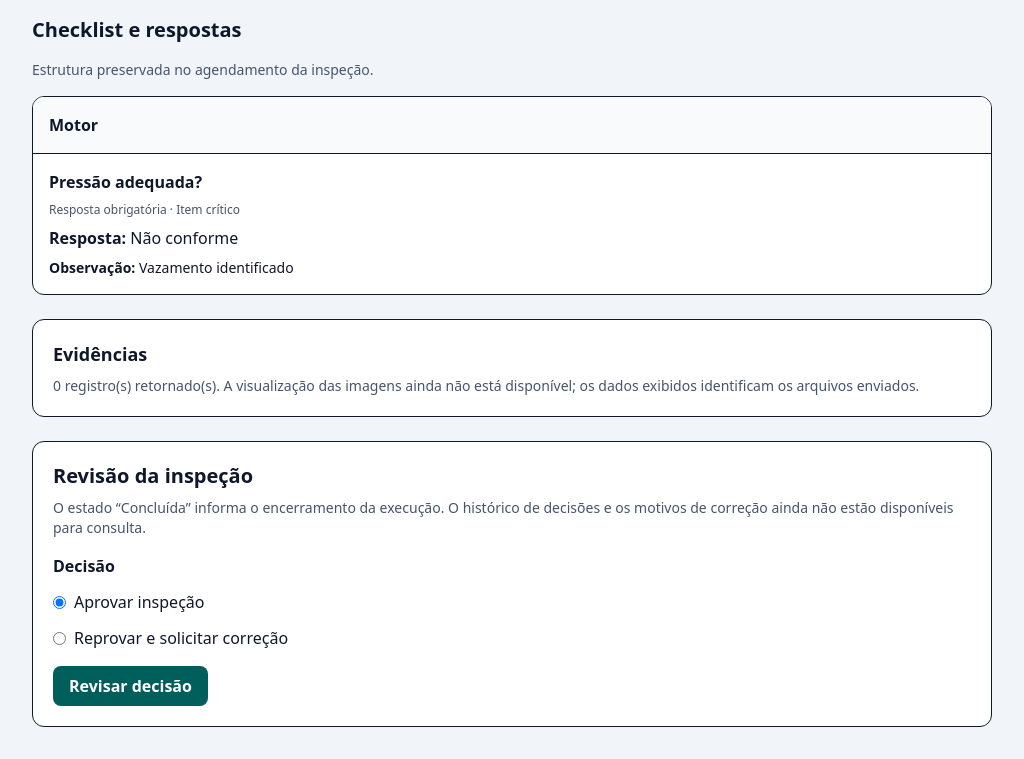
Test: preserva a justificativa e não exibe sucesso se a API rejeitar a decisão
(page scrolled)
Click the radio button labelled "Reprovar e solicitar correção". click: coordinates (60, 638)
box: x1=53 y1=632 x2=66 y2=644
(page scrolled)
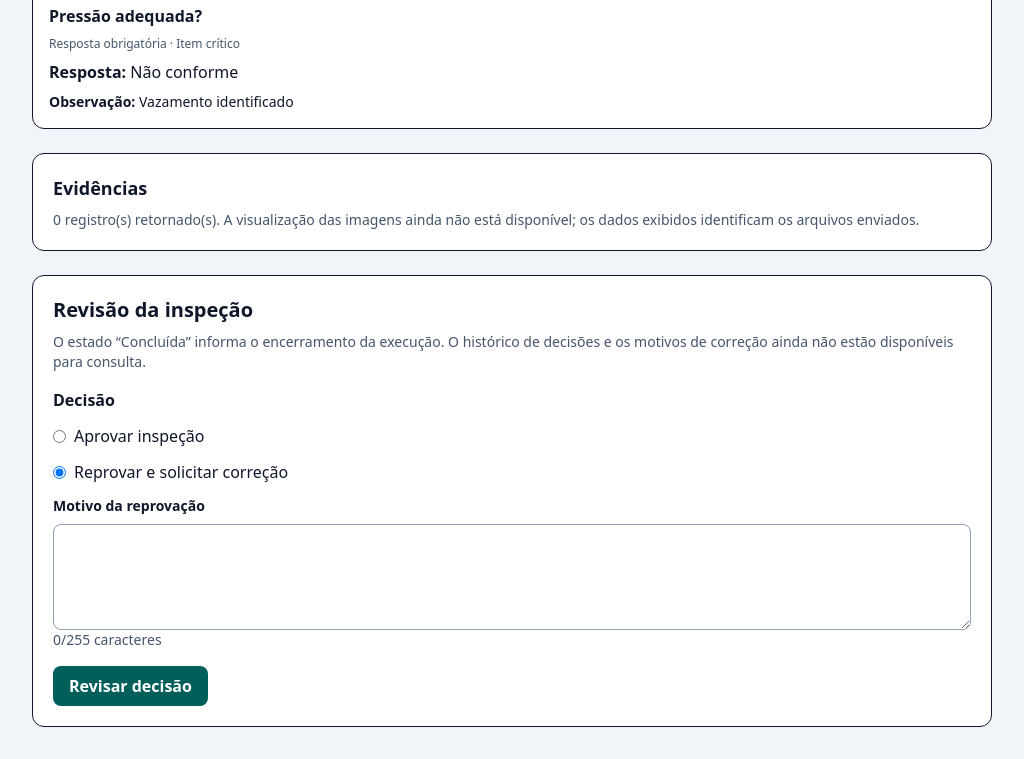
Type "Corrigir vazamento e reenviar" into the text box labelled "Motivo da reprovação 0/255 caracteres". click: coordinates (512, 577)
box: x1=53 y1=524 x2=971 y2=630
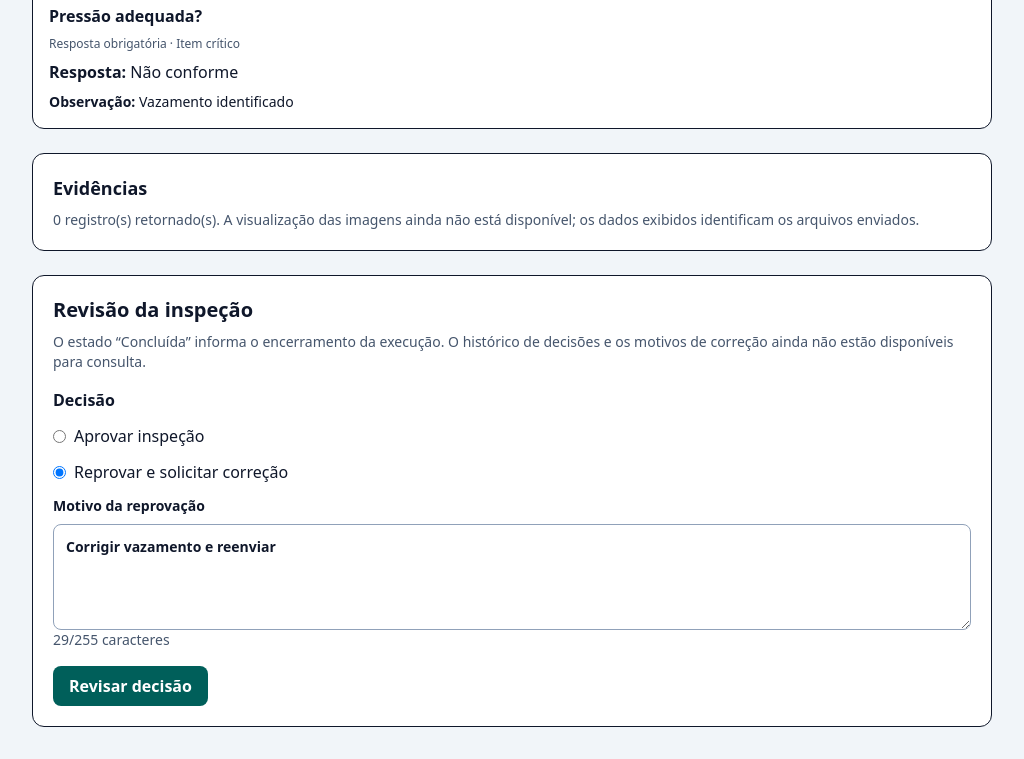
Click the button "Revisar decisão". click: coordinates (130, 686)
box: x1=53 y1=666 x2=208 y2=706
(page scrolled)
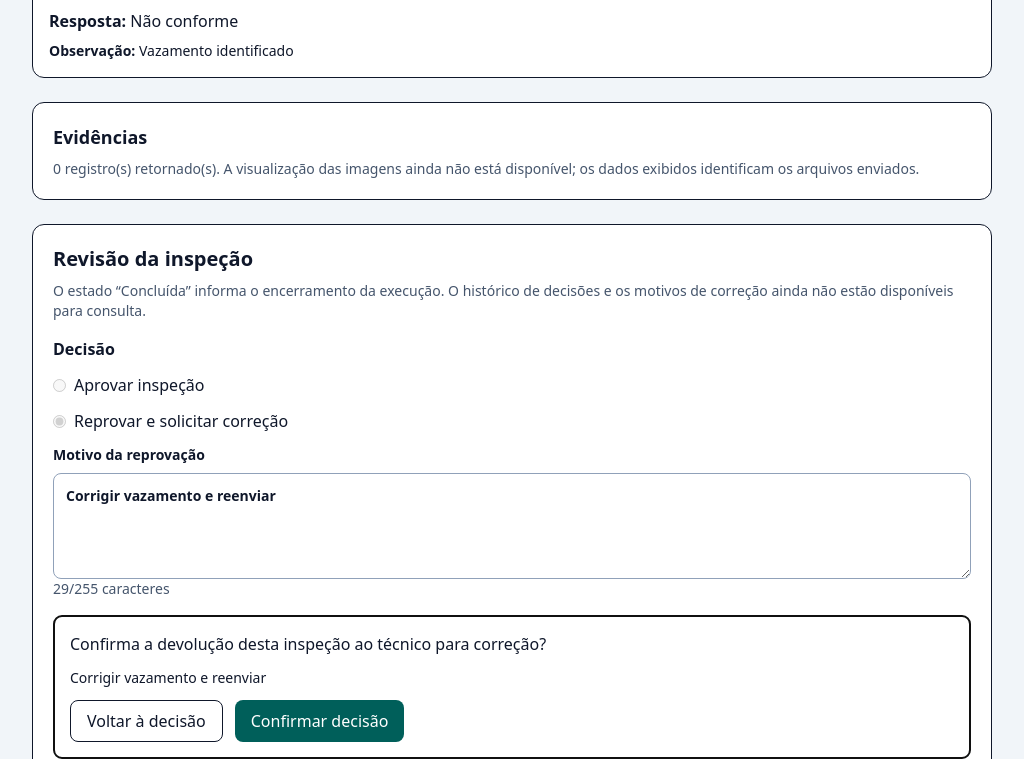
Click the button "Confirmar decisão". click: coordinates (320, 721)
box: x1=235 y1=700 x2=404 y2=742
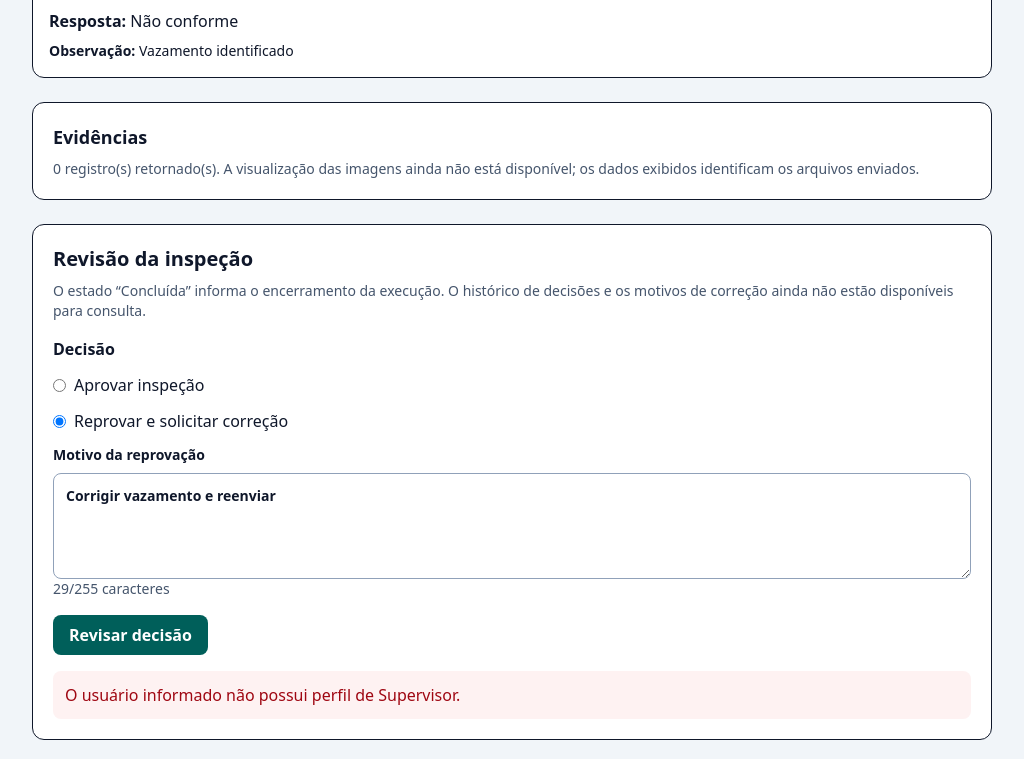
Expected: the message shows "não possui perfil", x1=65 y1=684 x2=460 y2=706
